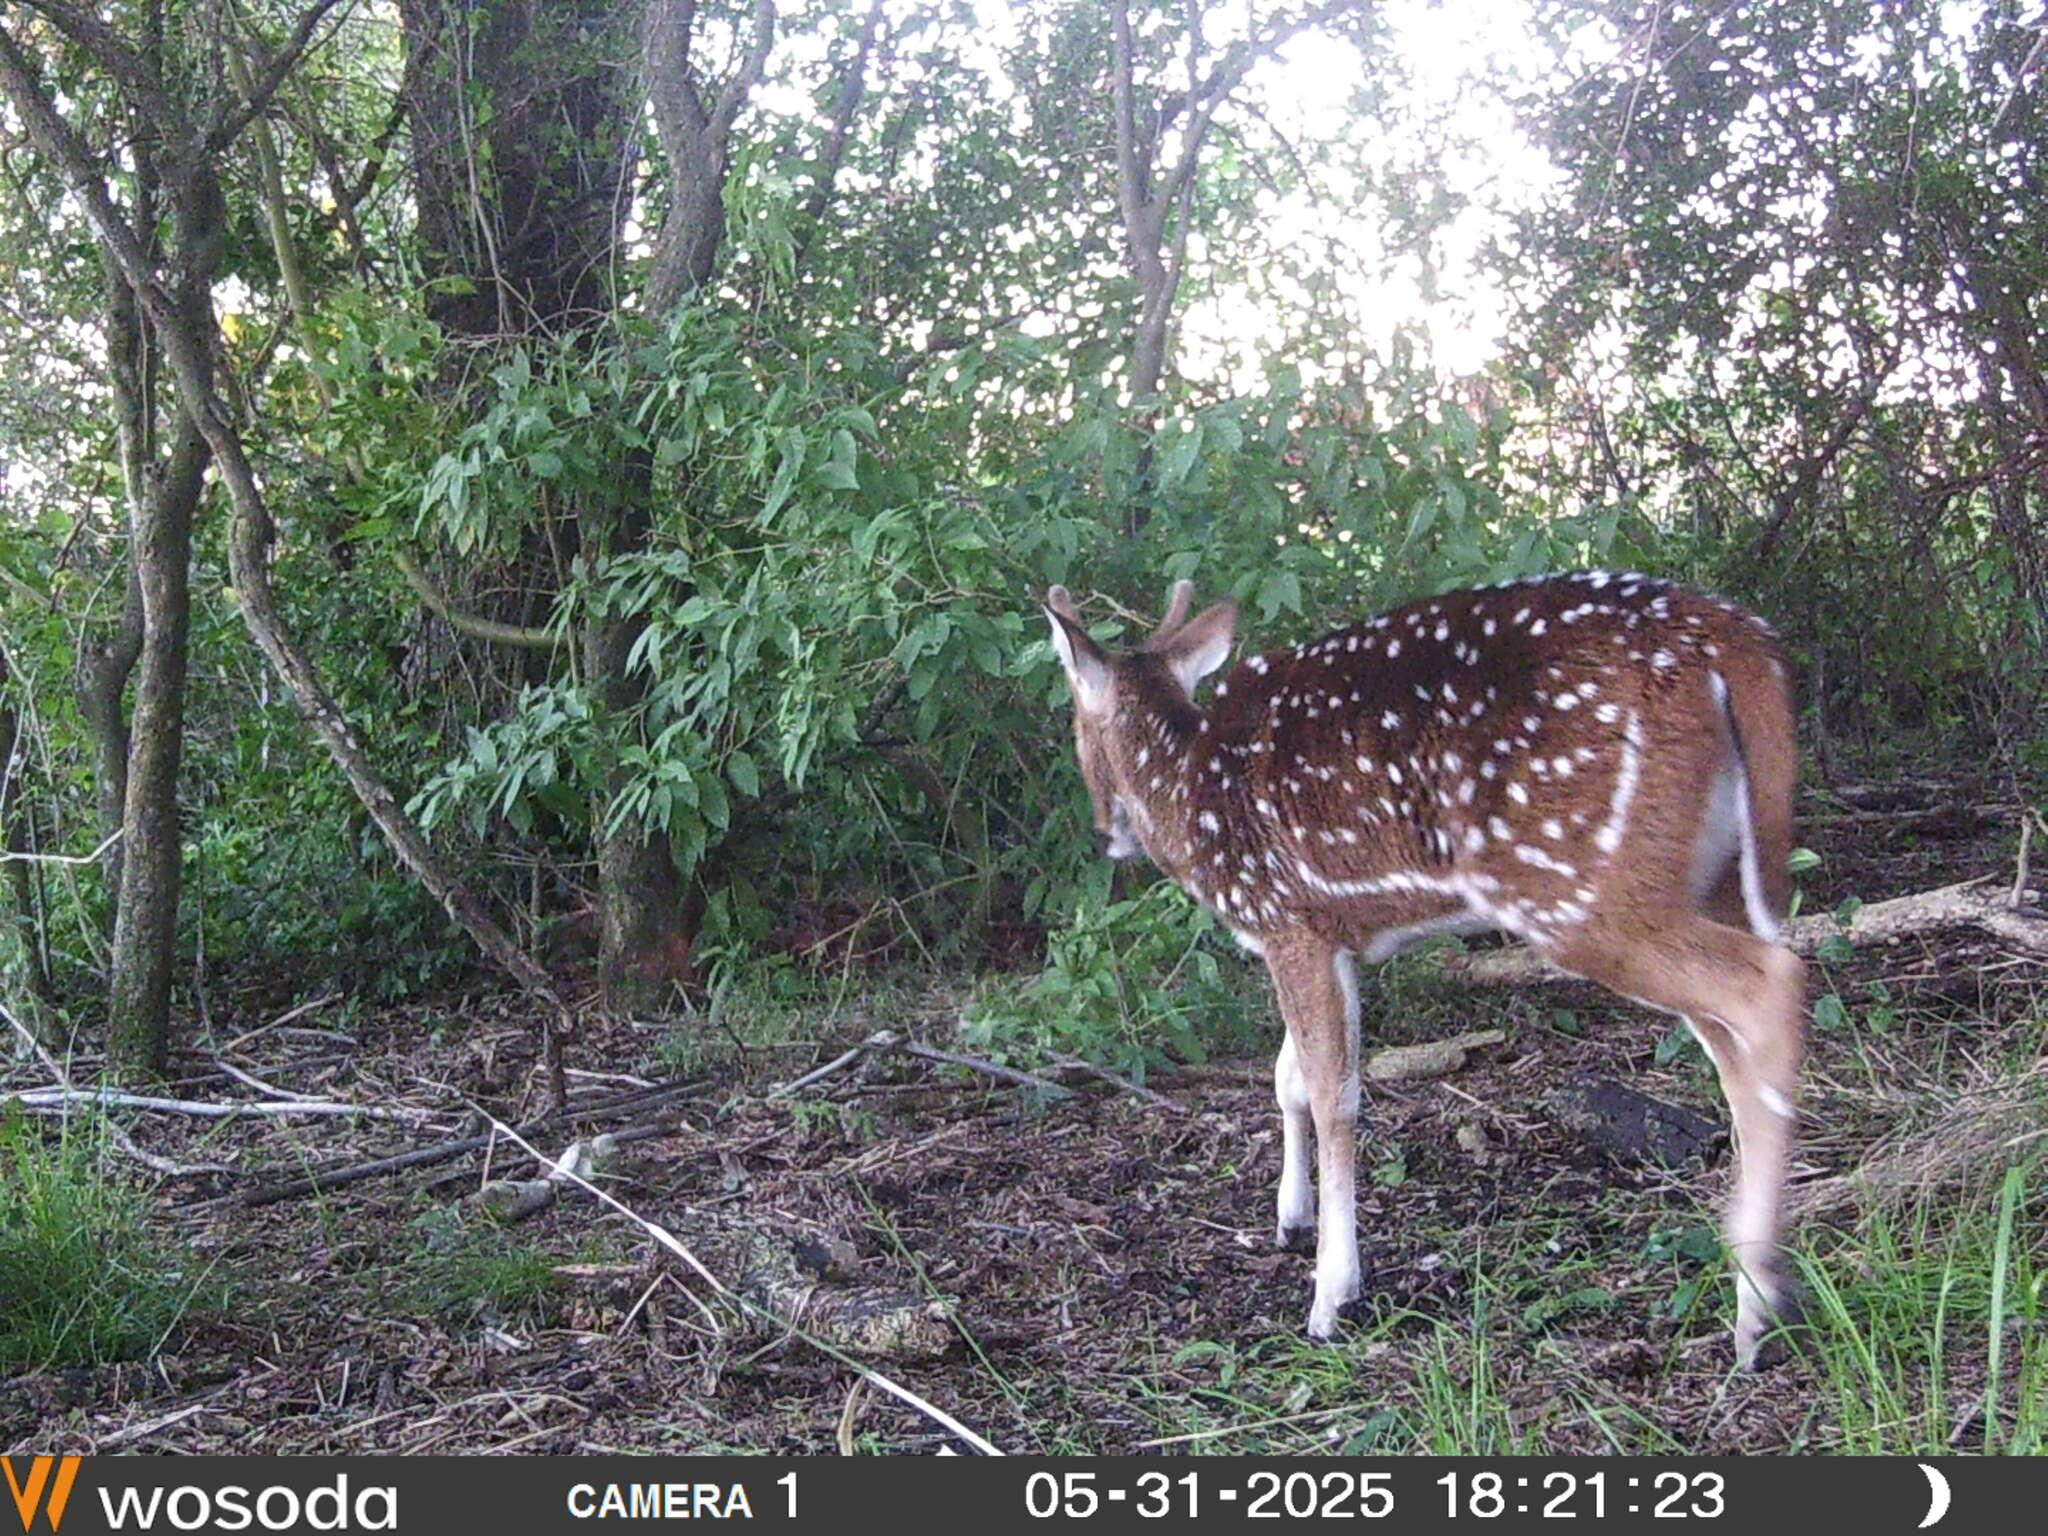Deer: (1043, 571, 1804, 1368)
